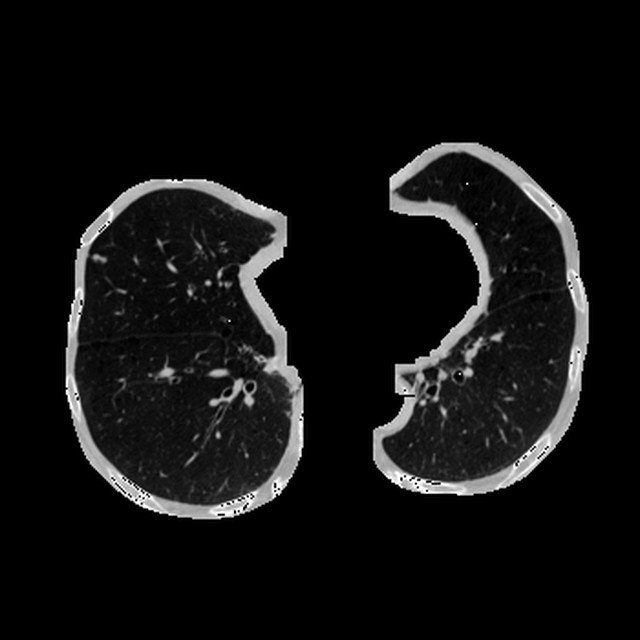PN: (95, 254, 102, 261)
